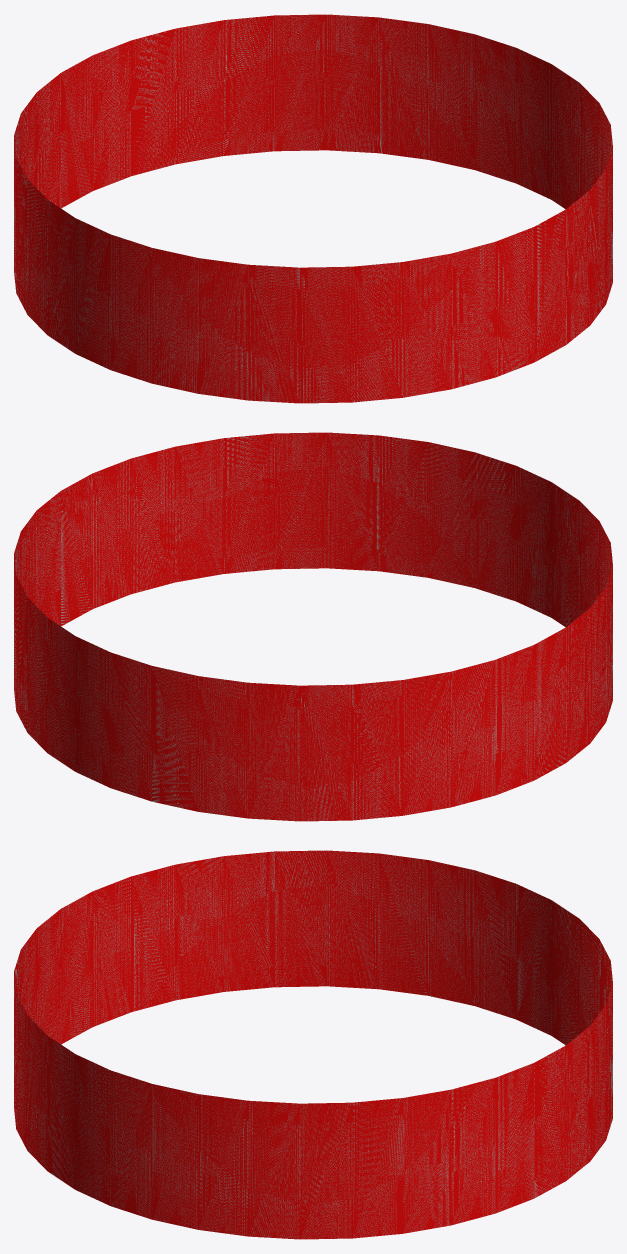
The model's file is original-69.obj.
3 views of the same model, one above another, from view 1: azimuth 30°, elevation 25°; view 2: azimuth 150°, elevation 25°; view 3: azimuth 270°, elevation 25° (orthographic).
Parts seen in each view (by area): view 1: #ID347; view 2: #ID347; view 3: #ID347.
Part boxes in pixels (x1,y1,x2,y2): #ID347: (14, 14, 612, 403); #ID347: (14, 432, 612, 821); #ID347: (14, 850, 612, 1239).
Size of the model in its own units: 0.0464 by 0.0116 by 0.0464.
